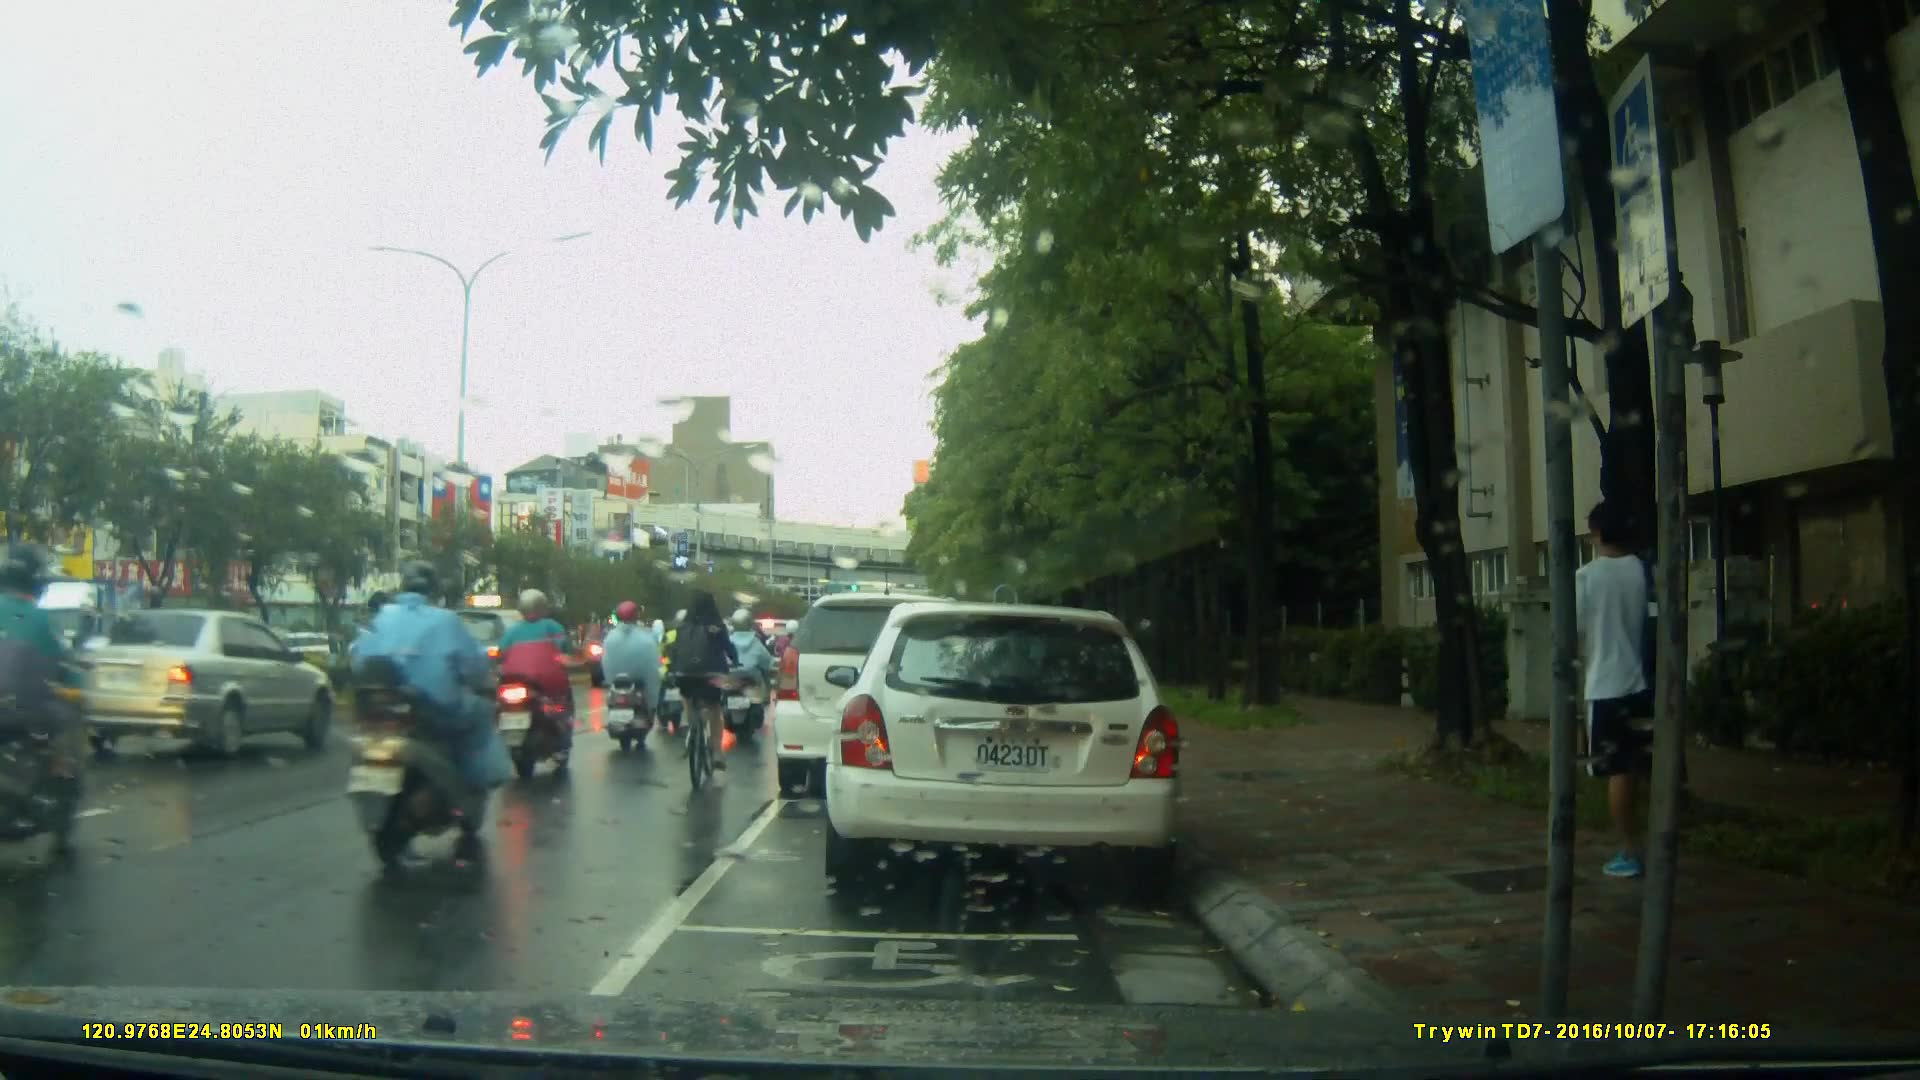pedestrian: (1564, 491, 1688, 916)
rider: (351, 552, 520, 866), (1, 560, 96, 863), (489, 587, 580, 778), (667, 594, 734, 796), (604, 599, 665, 753), (715, 607, 769, 730), (730, 607, 774, 730), (657, 605, 700, 717)
vehicle: (822, 604, 1188, 882), (774, 595, 995, 802), (49, 605, 332, 758), (397, 606, 569, 715)
